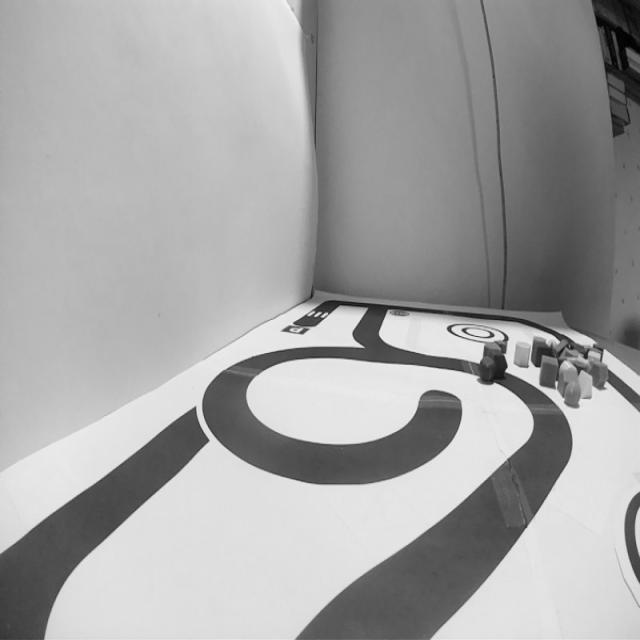laneRightTurn: (285, 520, 510, 640)
